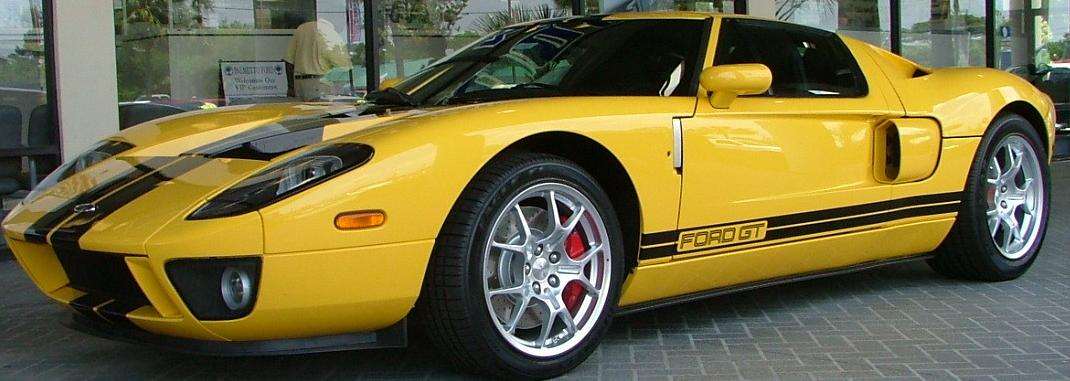front_view: (16, 129, 403, 339)
headlight: (209, 136, 370, 234)
side_glass: (711, 15, 901, 110)
